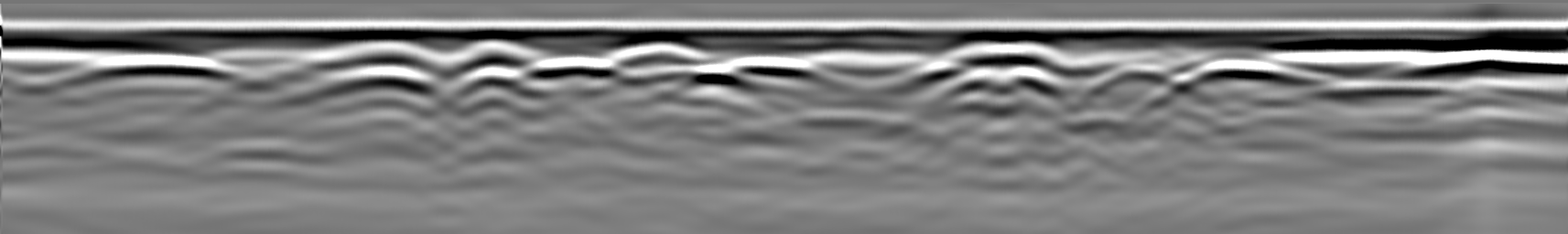pipe: (318, 29, 448, 61), (948, 33, 1068, 65), (451, 26, 541, 59), (614, 28, 706, 58)
steel: (67, 49, 244, 84), (1186, 58, 1303, 82), (715, 58, 821, 83)
